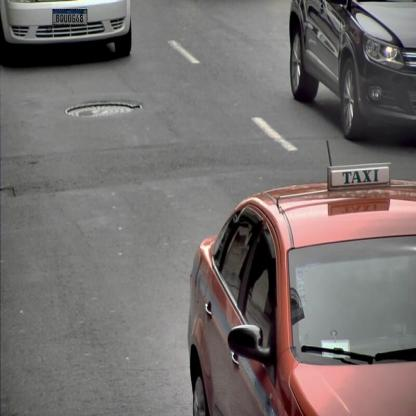PlacaM: (52, 9, 88, 25)
